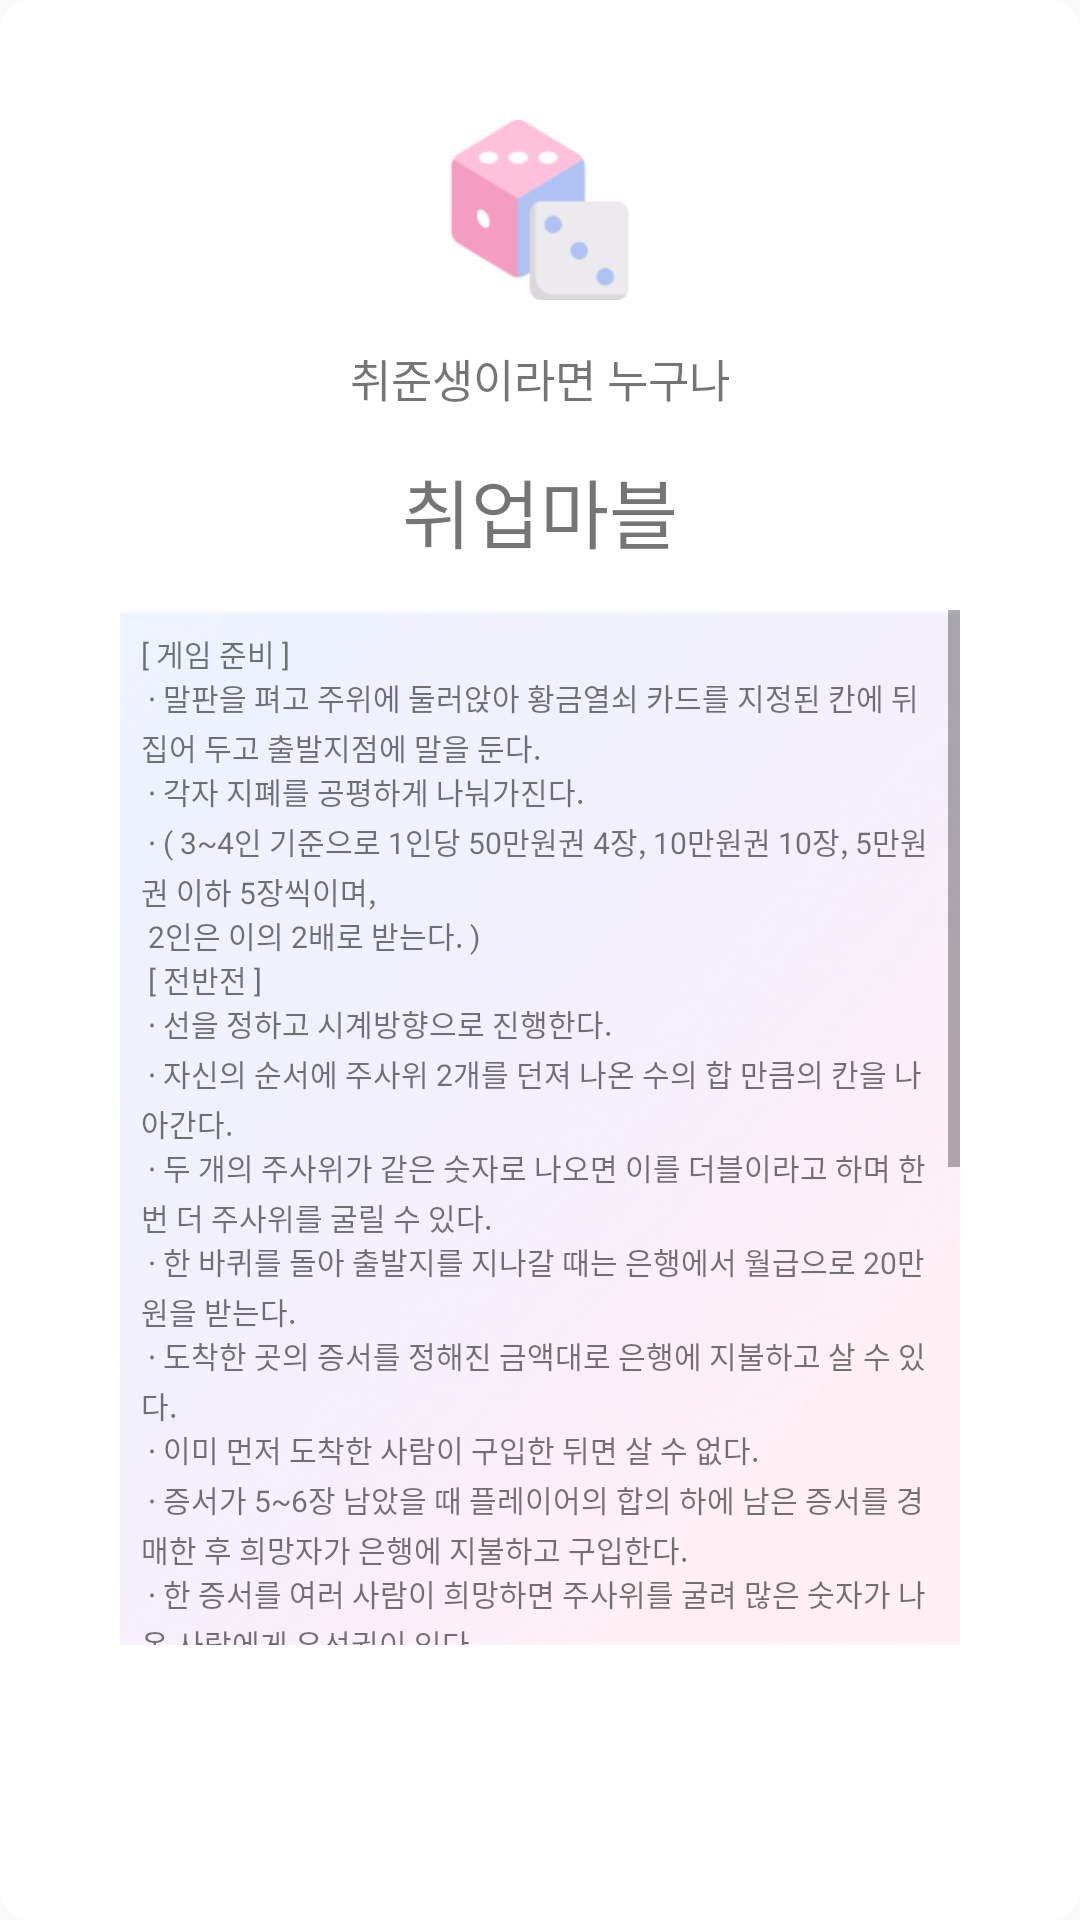

Screen size 1080×1920. Icon name, then its center in pixels as [x,y]:
dice: [539,210]
